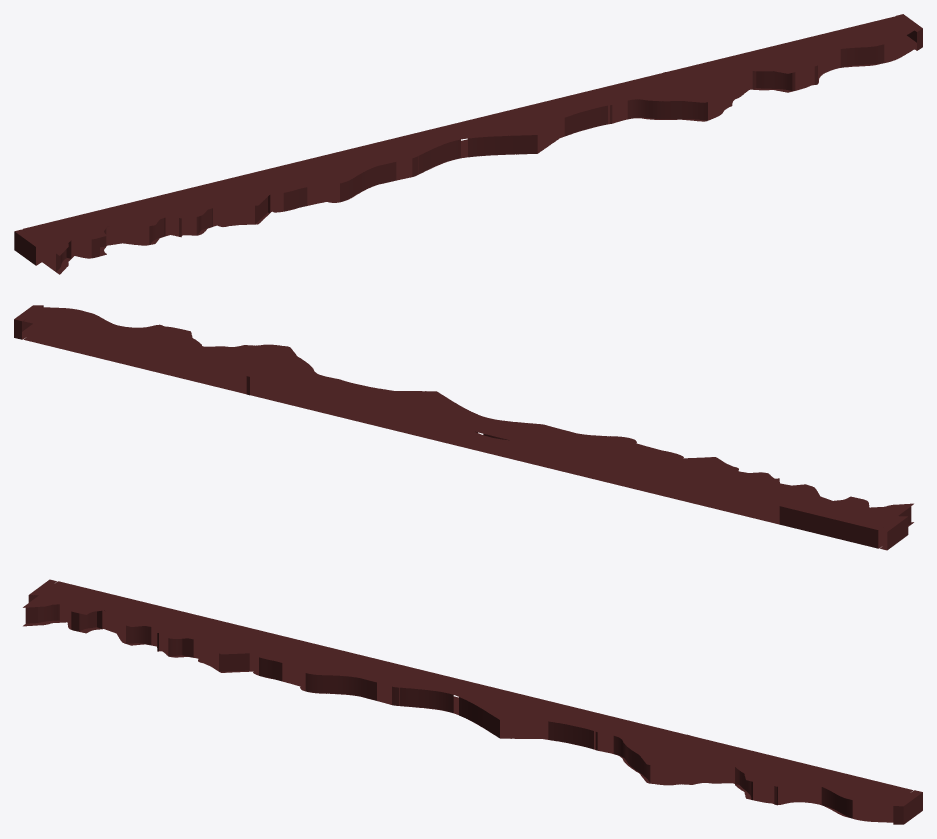
Rendered from Sky.FBX.
The picture shows the model from 3 angles, top to bottom: view 1: azimuth 30°, elevation 25°; view 2: azimuth 150°, elevation 25°; view 3: azimuth 330°, elevation 25°; orthographic projection.
Parts seen in each view (by area): view 1: Shape1; view 2: Shape1; view 3: Shape1.
Boxes of the visible parts, bbox=[...] form: Shape1: bbox=[14, 14, 922, 274]; Shape1: bbox=[14, 305, 913, 550]; Shape1: bbox=[23, 579, 922, 824].
Size of the model in its own units: 98.67 by 2 by 7.97.
